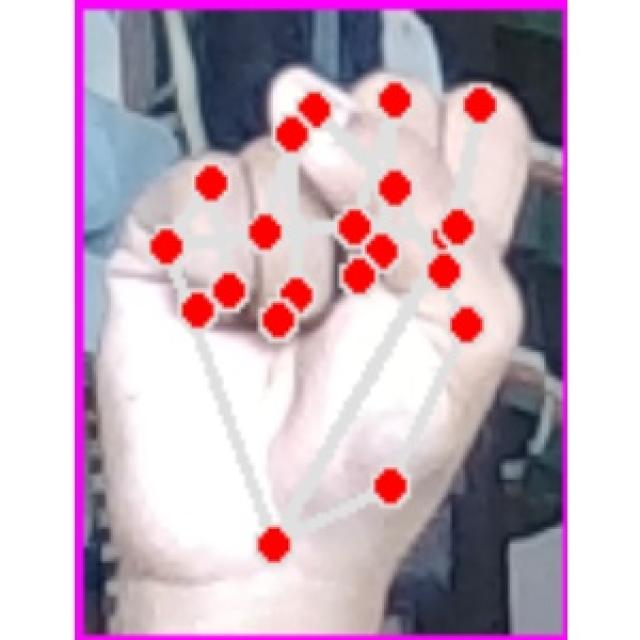S: (96, 56, 542, 578)
